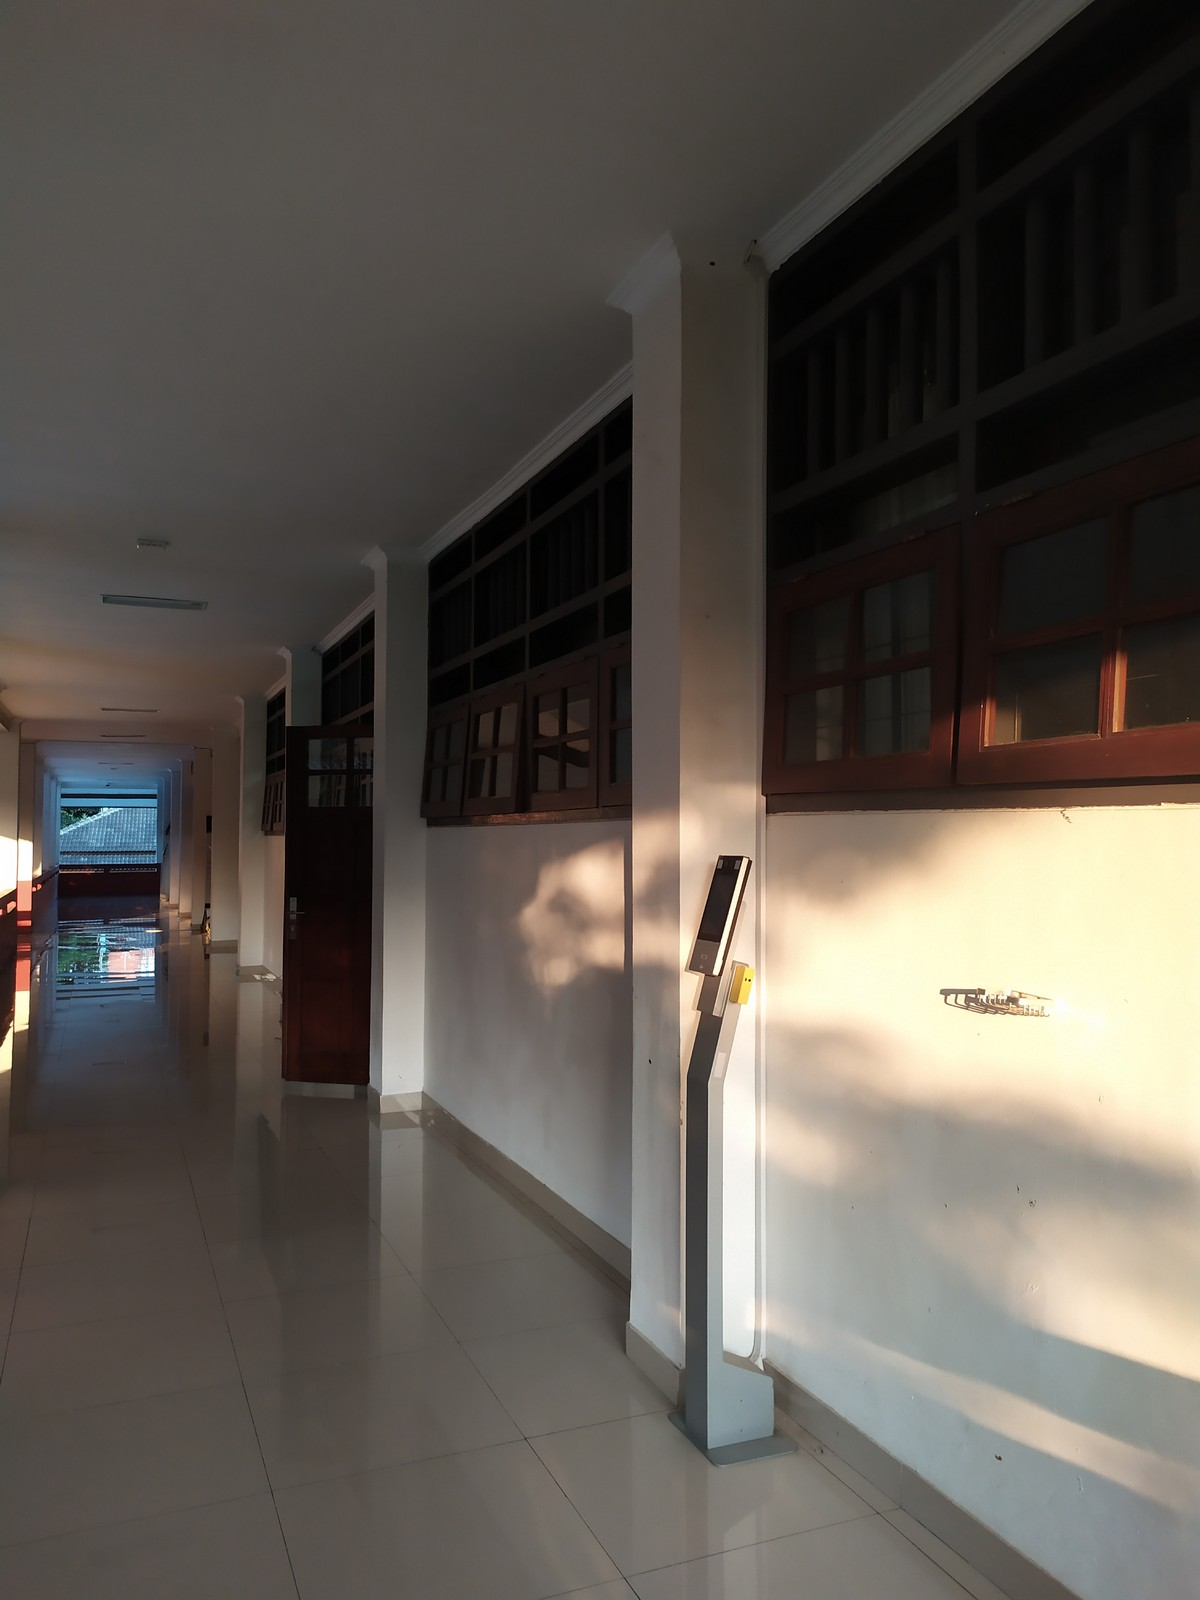concrete column: (618, 251, 768, 1425), (367, 551, 436, 1120), (232, 687, 274, 981)
